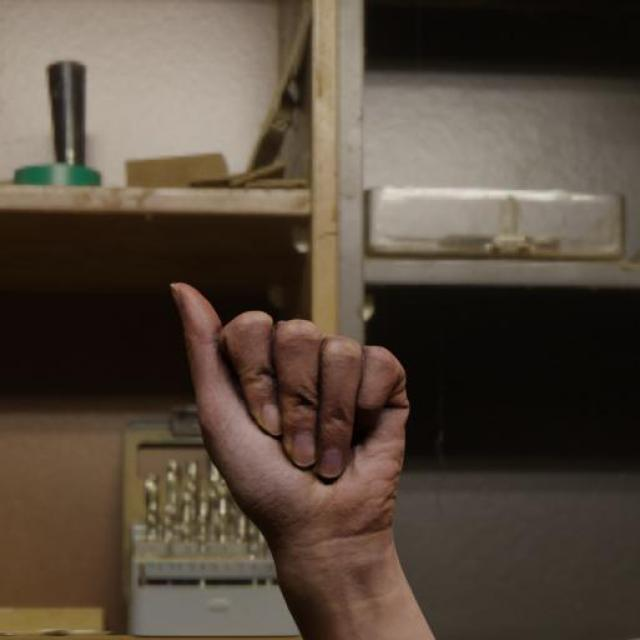A: (168, 274, 413, 546)
